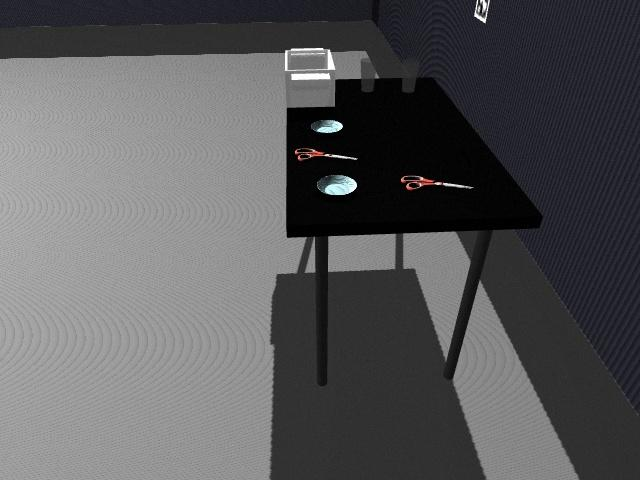cup: (400, 60, 419, 94), (360, 56, 376, 94)
plate: (316, 174, 357, 196), (308, 119, 344, 134)
scissors: (400, 175, 472, 192), (295, 148, 356, 162)
